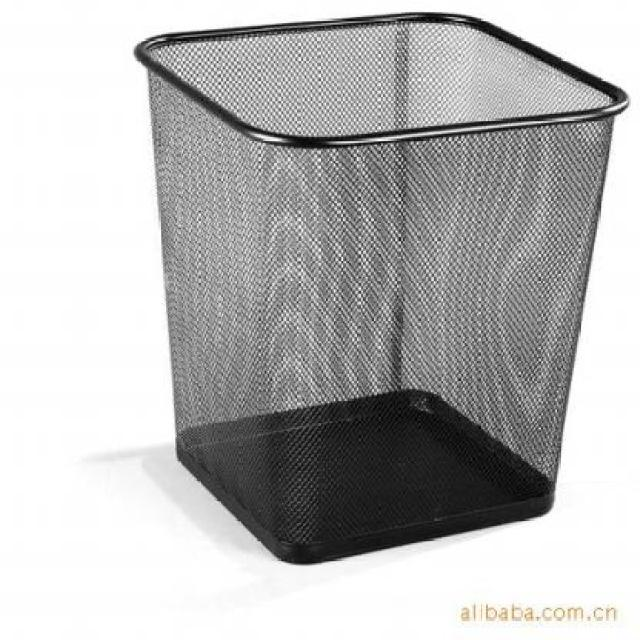dustbin: (129, 6, 637, 570)
